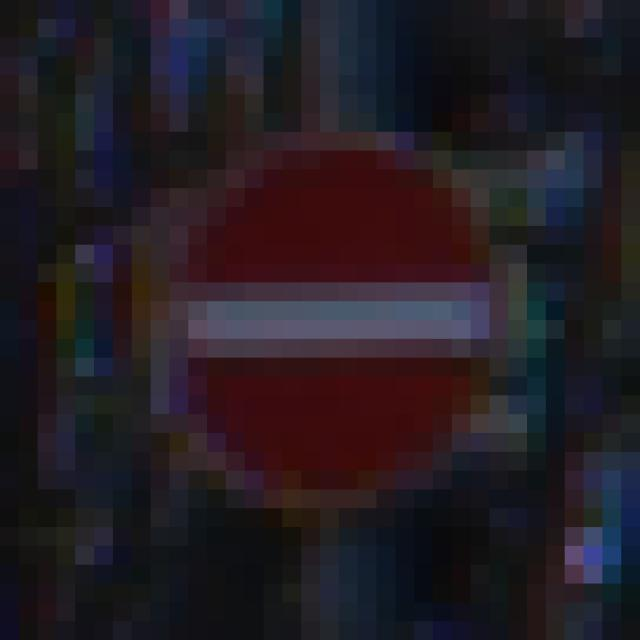No Entry: (114, 95, 547, 547)
